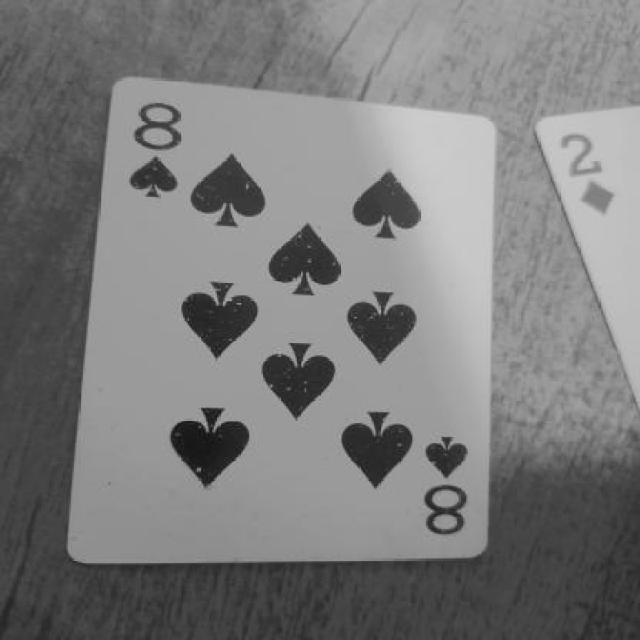2D: (558, 128, 630, 222)
8S: (404, 427, 488, 559), (110, 96, 205, 210)
